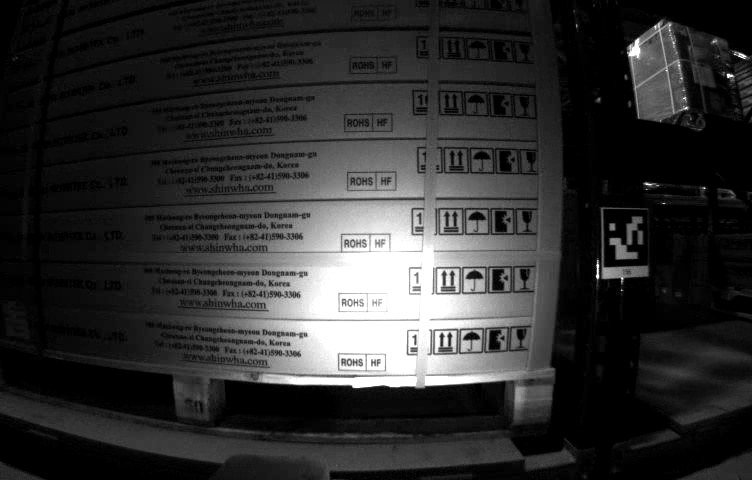True Barcode: (4, 295, 24, 341)
